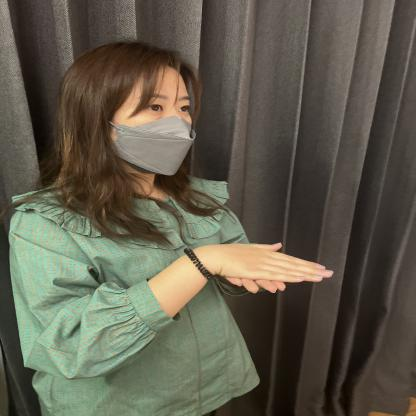Love: (105, 212, 407, 315)
